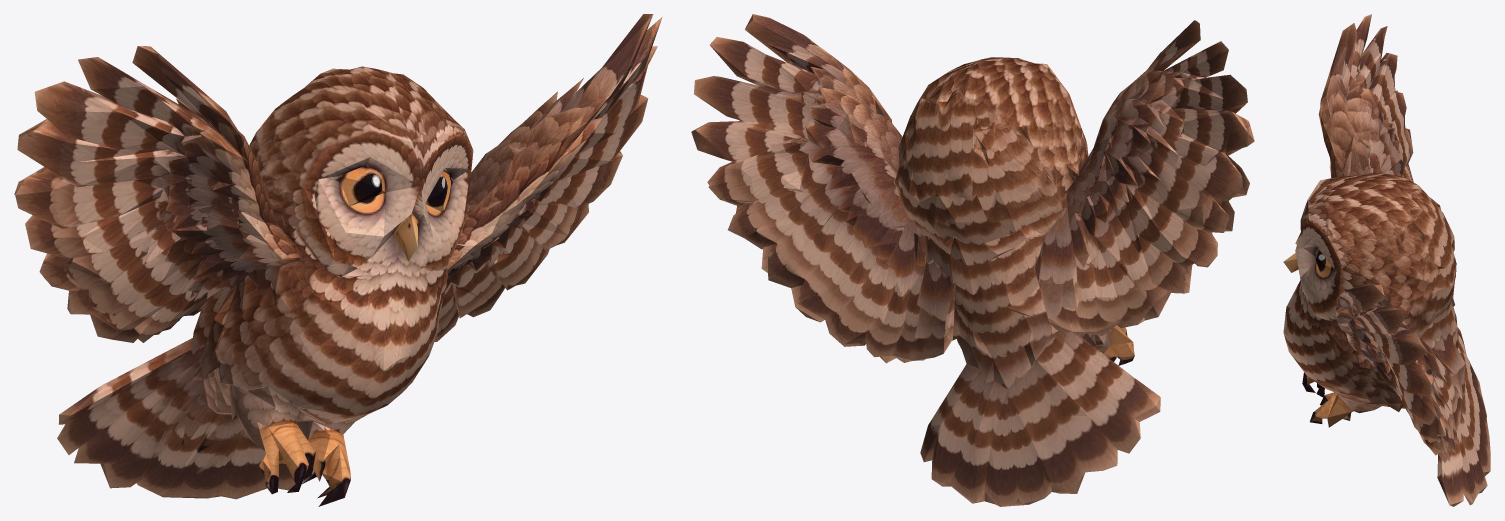
File: owl-fly.glb
The picture shows the model from 3 angles, left to right: view 1: azimuth 30°, elevation 25°; view 2: azimuth 150°, elevation 25°; view 3: azimuth 270°, elevation 25°; orthographic projection. The views are drawn at different scales.
Bounding box in the file's own units: 0.6739 × 0.55 × 0.2558.
1 material, 1 textured.
